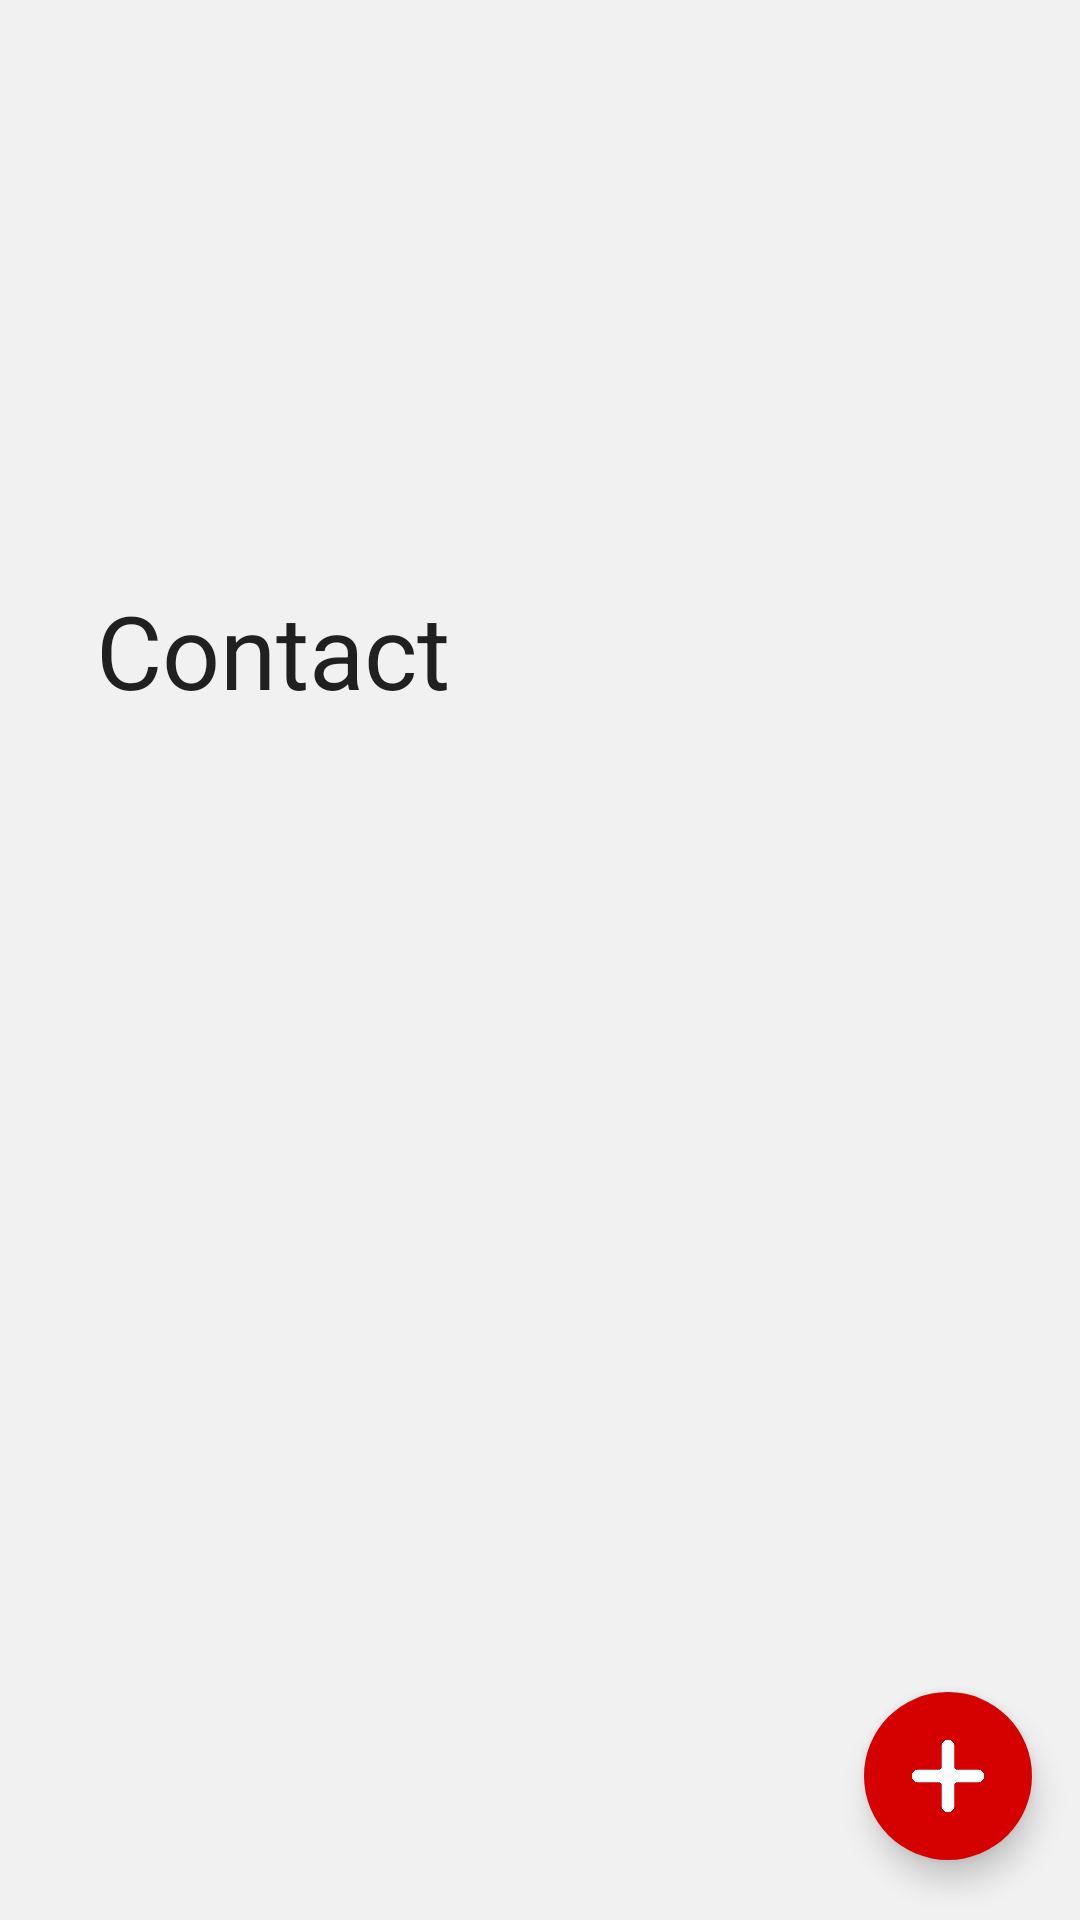

Locate icon controls on the screen. Image size 1080 × 1920, boxes as (x1, y1, x2, y2).
plus: (864, 1692, 1032, 1860)
